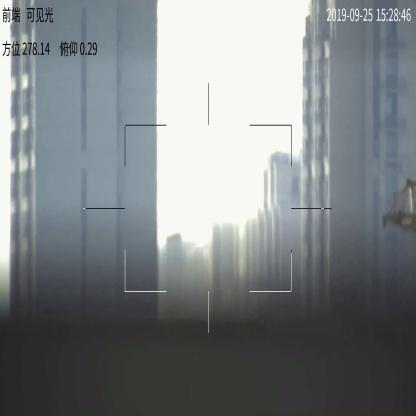uav: (166, 230, 181, 242)
